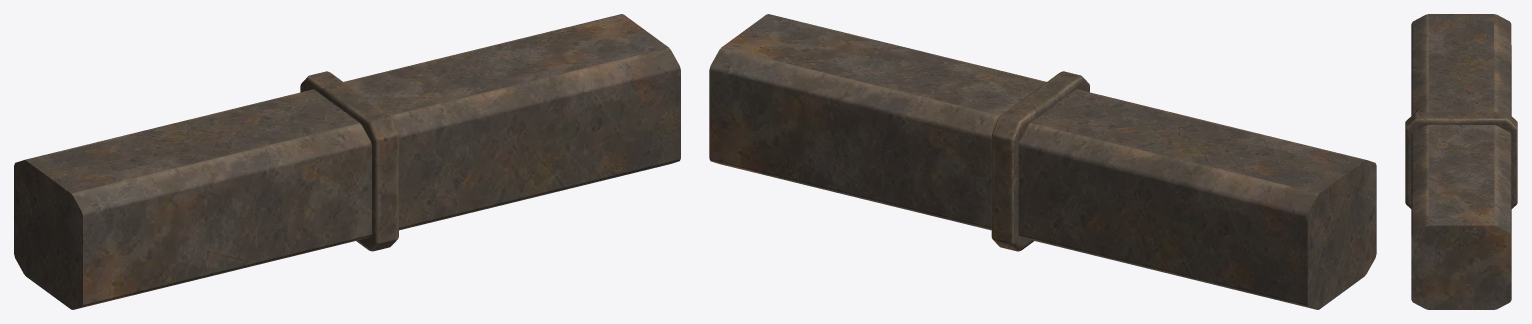
3 views of the same model, side by side, from view 1: azimuth 30°, elevation 25°; view 2: azimuth 150°, elevation 25°; view 3: azimuth 270°, elevation 25° (orthographic). The views are drawn at different scales.
Parts seen in each view (by area): view 1: SM_BB_T3_Extended_Beam_Thin_Med_Horizontal_LOD0; view 2: SM_BB_T3_Extended_Beam_Thin_Med_Horizontal_LOD0; view 3: SM_BB_T3_Extended_Beam_Thin_Med_Horizontal_LOD0.
Part boxes in pixels (x1,y1,x2,y2): SM_BB_T3_Extended_Beam_Thin_Med_Horizontal_LOD0: (14,14,680,309); SM_BB_T3_Extended_Beam_Thin_Med_Horizontal_LOD0: (709,14,1376,309); SM_BB_T3_Extended_Beam_Thin_Med_Horizontal_LOD0: (1405,14,1517,309).
Size of the model in its own units: 1.5 by 0.3134 by 0.3368.
1 material, 1 textured.
